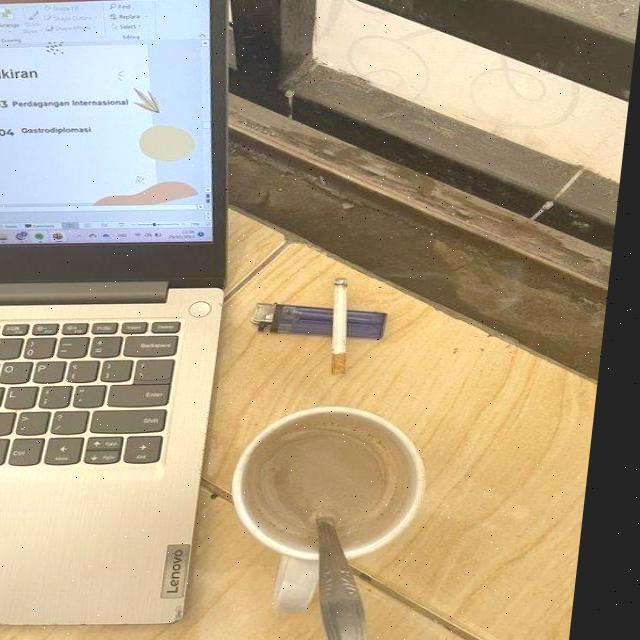cigarette: (335, 280, 362, 374)
